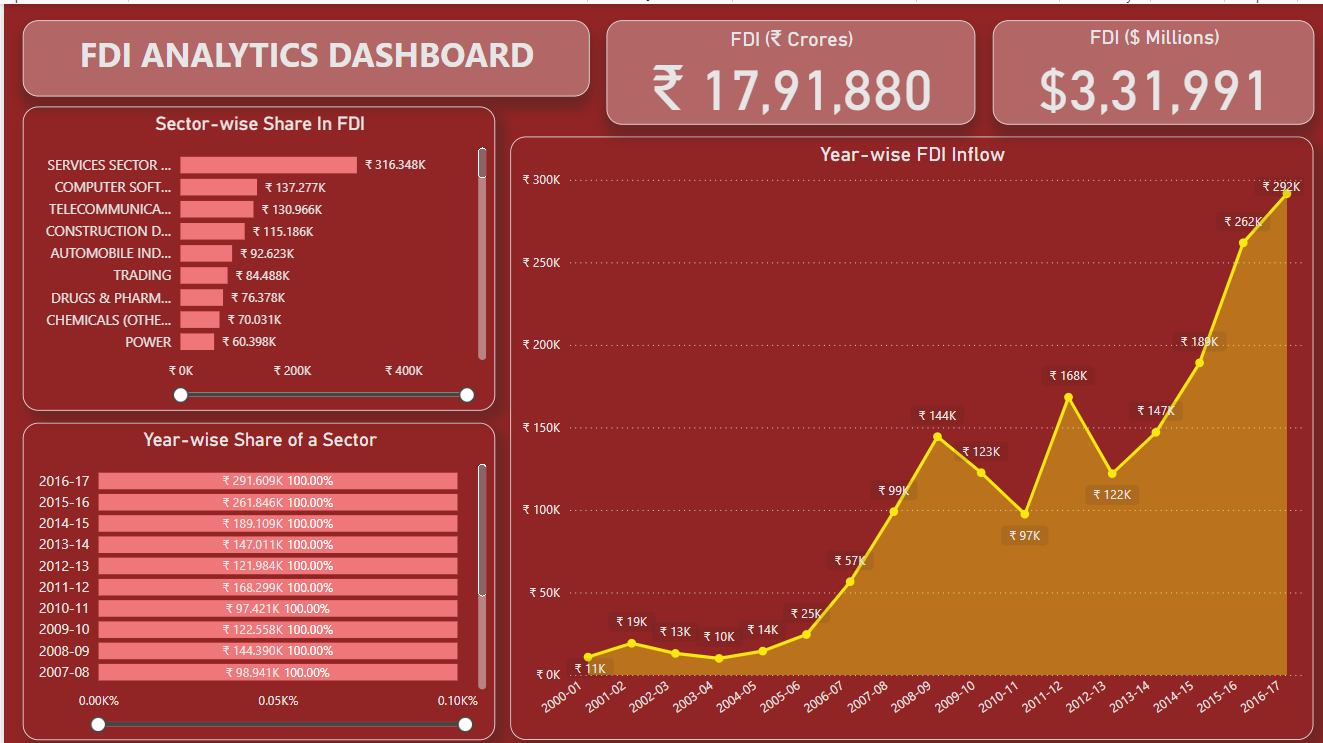

The page's visual inventory and layout, read from the dashboard file:
{"tool":"powerbi","page":{"name":"Sector-wise & Year-wise  FDI Inflow","canvas":[1280,720],"ordinal":0},"visuals":[{"type":"areaChart","title":"Year-wise FDI Inflow","fields":{"Category":["Sheet1.Year"],"Y":["Sum(Sheet1.FDI(₹ Crores))"]},"box":[489,127.6,775.3,582.5],"z":0},{"type":"hundredPercentStackedBarChart","title":"Year-wise Share of a Sector","fields":{"Y":["Sum(Sheet1.FDI(₹ Crores))"],"Category":["Sheet1.Year"]},"box":[18.4,403.9,456.4,306.1],"z":1000},{"type":"card","title":"FDI (₹ Crores)","fields":{"Values":["Imp Insights.Total FDI"]},"box":[581.1,15.6,355.7,100.6],"z":2000},{"type":"card","title":"FDI ($ Millions)","fields":{"Values":["Sum(Sheet1.FDI(US$ Million))"]},"box":[953.9,15.6,310.4,100.6],"z":3000},{"type":"textbox","box":[18.4,15.6,547.1,73.7],"z":5000},{"type":"barChart","title":"Sector-wise Share In FDI","fields":{"Category":["FDI.Sector"],"Y":["Imp Insights.Total FDI"]},"box":[18.4,99.2,456.4,293.4],"z":6000}]}

Visuals, with their boxes in screenshot pixels (x1, y1, x2, y2), scaled from the page's 1280x720 canvas onto the 1323x743 screenshot:
"Year-wise FDI Inflow" areaChart: (505, 132, 1307, 733)
"Year-wise Share of a Sector" hundredPercentStackedBarChart: (19, 417, 491, 733)
"FDI (₹ Crores)" card: (601, 16, 968, 120)
"FDI ($ Millions)" card: (986, 16, 1307, 120)
textbox: (19, 16, 584, 92)
"Sector-wise Share In FDI" barChart: (19, 102, 491, 405)
